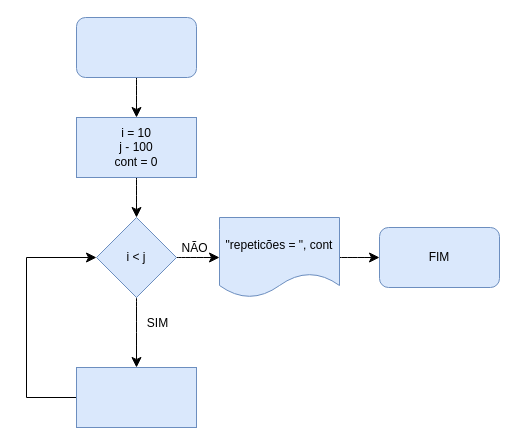
Image size: 517x445. Some labels were removed from this diagram. Here are the shapes that lost their labels. From the top down, the box of each, then its label:
(76, 16, 196, 78): INÍCIO
(76, 366, 196, 428): i = i + 10 j = j - 10 cont = cont + 1
